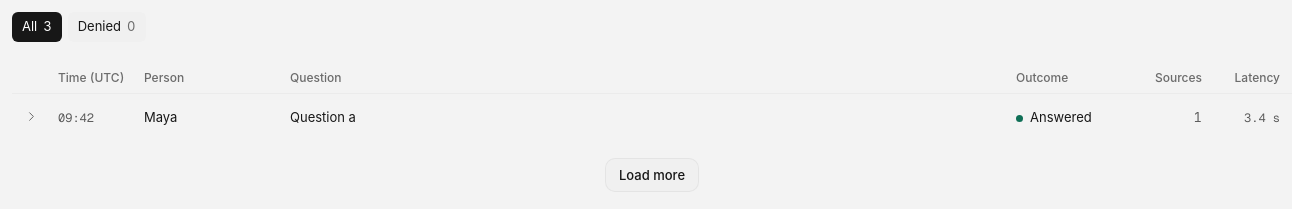
Test: ActivityView › appends the next page using the cursor
Click the button "Load more".
click(652, 175)  # box [605,158,699,192]
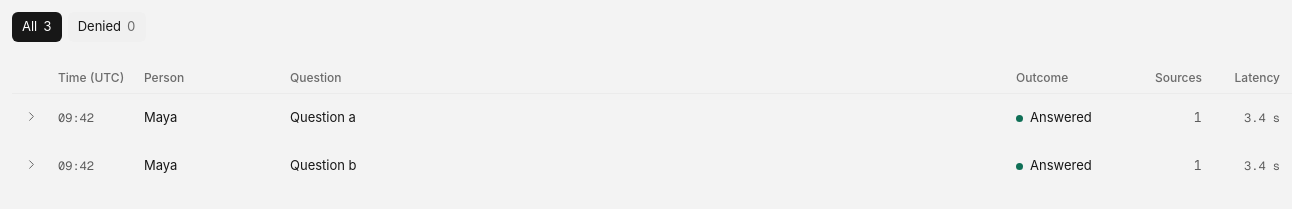
Check: the text "Question a" is shown, box [290,109,356,125]
Check: the text "Question b" is shown, box [290,157,356,173]
Check: the button "Load more" is gone
